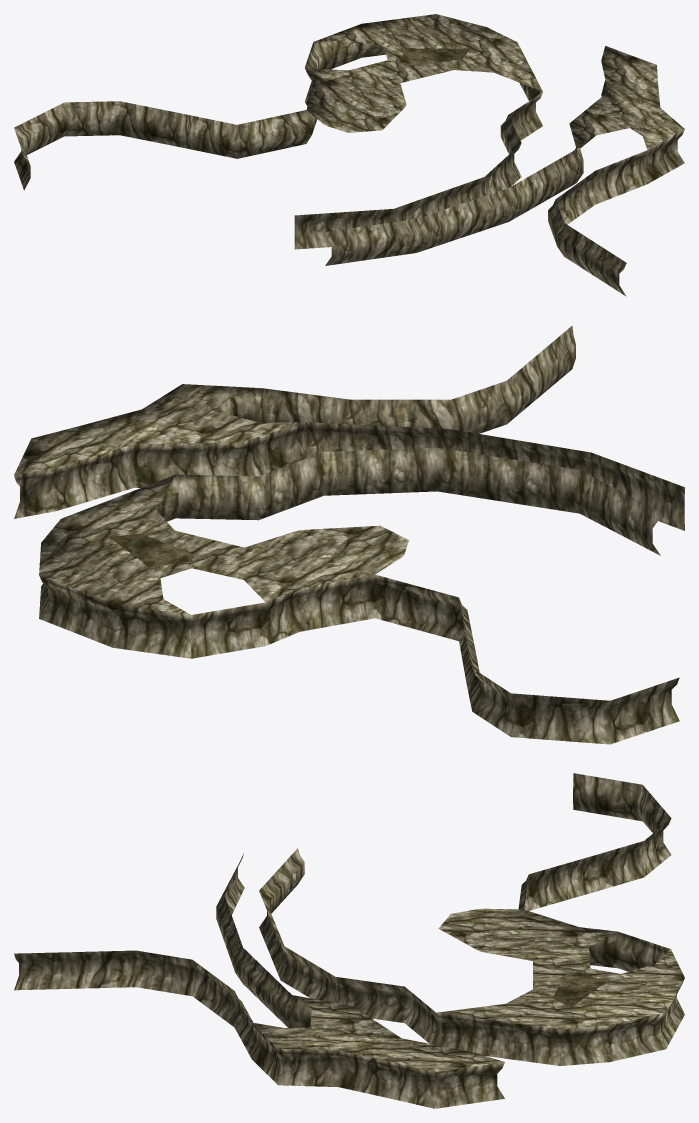
Rendered from CB_NEWPLAYSURFACE_CB_PLAYSURFACE149.fbx.
The picture shows the model from 3 angles, top to bottom: view 1: azimuth 30°, elevation 25°; view 2: azimuth 150°, elevation 25°; view 3: azimuth 270°, elevation 25°; orthographic projection. The views are drawn at different scales.
Visible parts, largest first — view 1: CB_NEWPLAYSURFACE_CB_PLAYSURFACE149; view 2: CB_NEWPLAYSURFACE_CB_PLAYSURFACE149; view 3: CB_NEWPLAYSURFACE_CB_PLAYSURFACE149.
Boxes of the visible parts, box(x1,y1,x2,y2) form: CB_NEWPLAYSURFACE_CB_PLAYSURFACE149: box(14, 14, 684, 296); CB_NEWPLAYSURFACE_CB_PLAYSURFACE149: box(14, 326, 684, 744); CB_NEWPLAYSURFACE_CB_PLAYSURFACE149: box(14, 773, 684, 1108).
Bounding box in the file's own units: 524400 × 30000 × 497279.
Materials: 3 (3 with a texture image).
